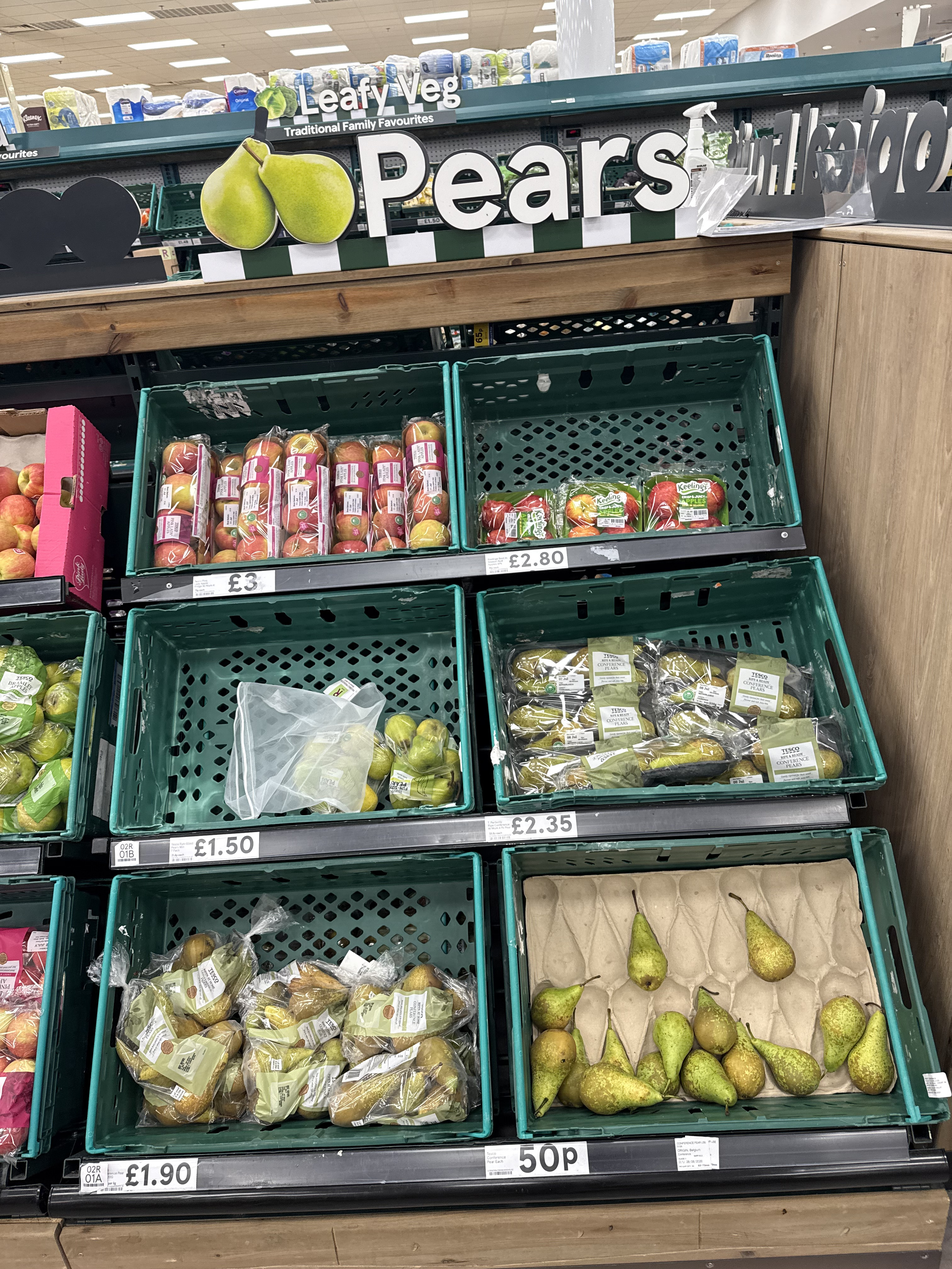large: (485, 1141, 590, 1179), (97, 1158, 197, 1194)
medium: (484, 811, 577, 842), (169, 831, 259, 863), (485, 546, 569, 575), (193, 569, 275, 598)
